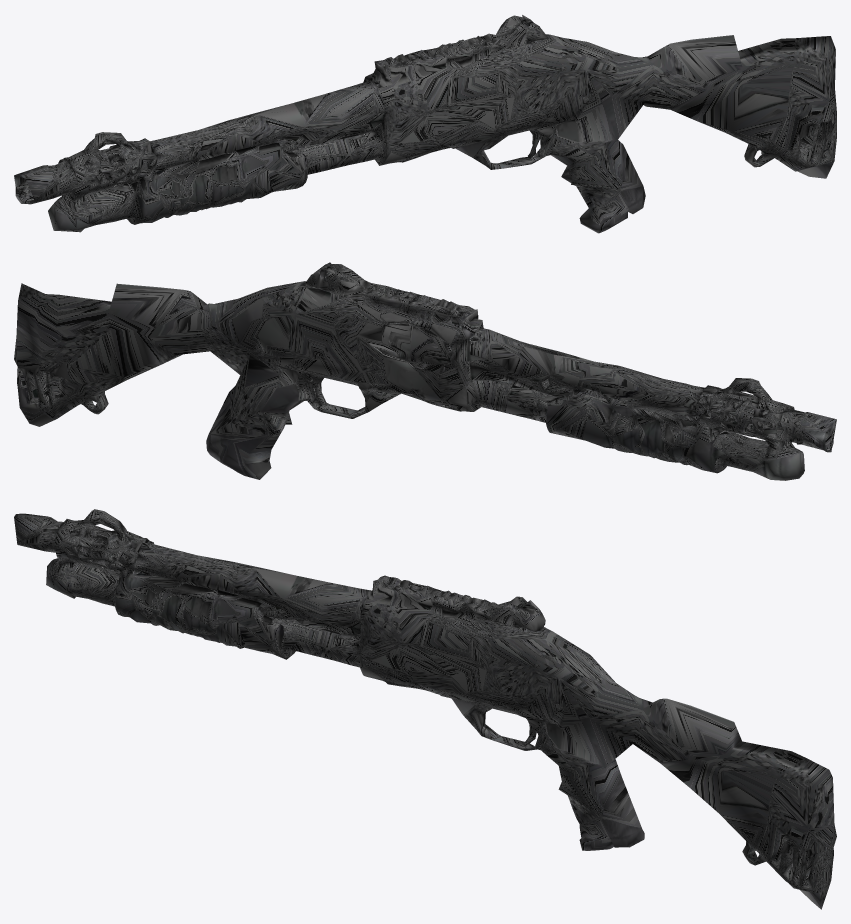
The model's file is mx_dr_w_shotgun.glb.
3 views of the same model, one above another, from view 1: azimuth 30°, elevation 25°; view 2: azimuth 150°, elevation 25°; view 3: azimuth 330°, elevation 25° (orthographic).
Visible parts, largest first — view 1: Mesh_0; view 2: Mesh_0; view 3: Mesh_0.
Boxes of the visible parts, bbox=[...] form: Mesh_0: bbox=[14, 15, 836, 233]; Mesh_0: bbox=[14, 262, 836, 480]; Mesh_0: bbox=[14, 509, 836, 909].
Size of the model in its own units: 1.9 by 0.52 by 0.1163.
Materials: 1 (1 with a texture image).
